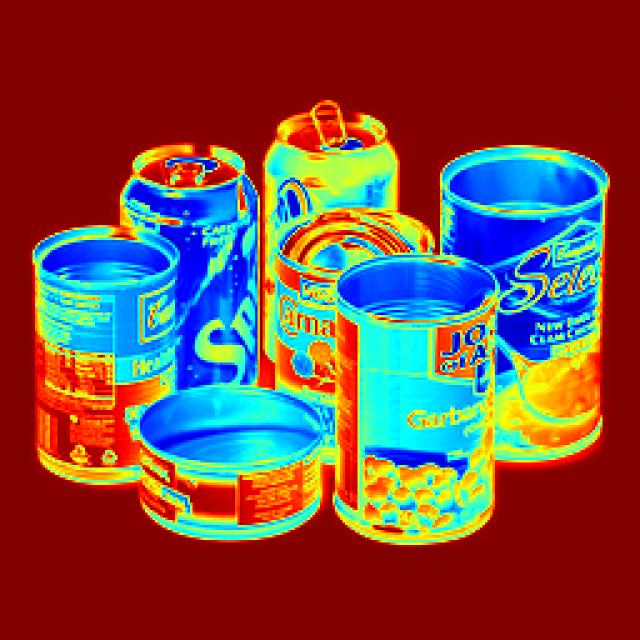Aluminium Food Cans: (11, 48, 612, 570)
